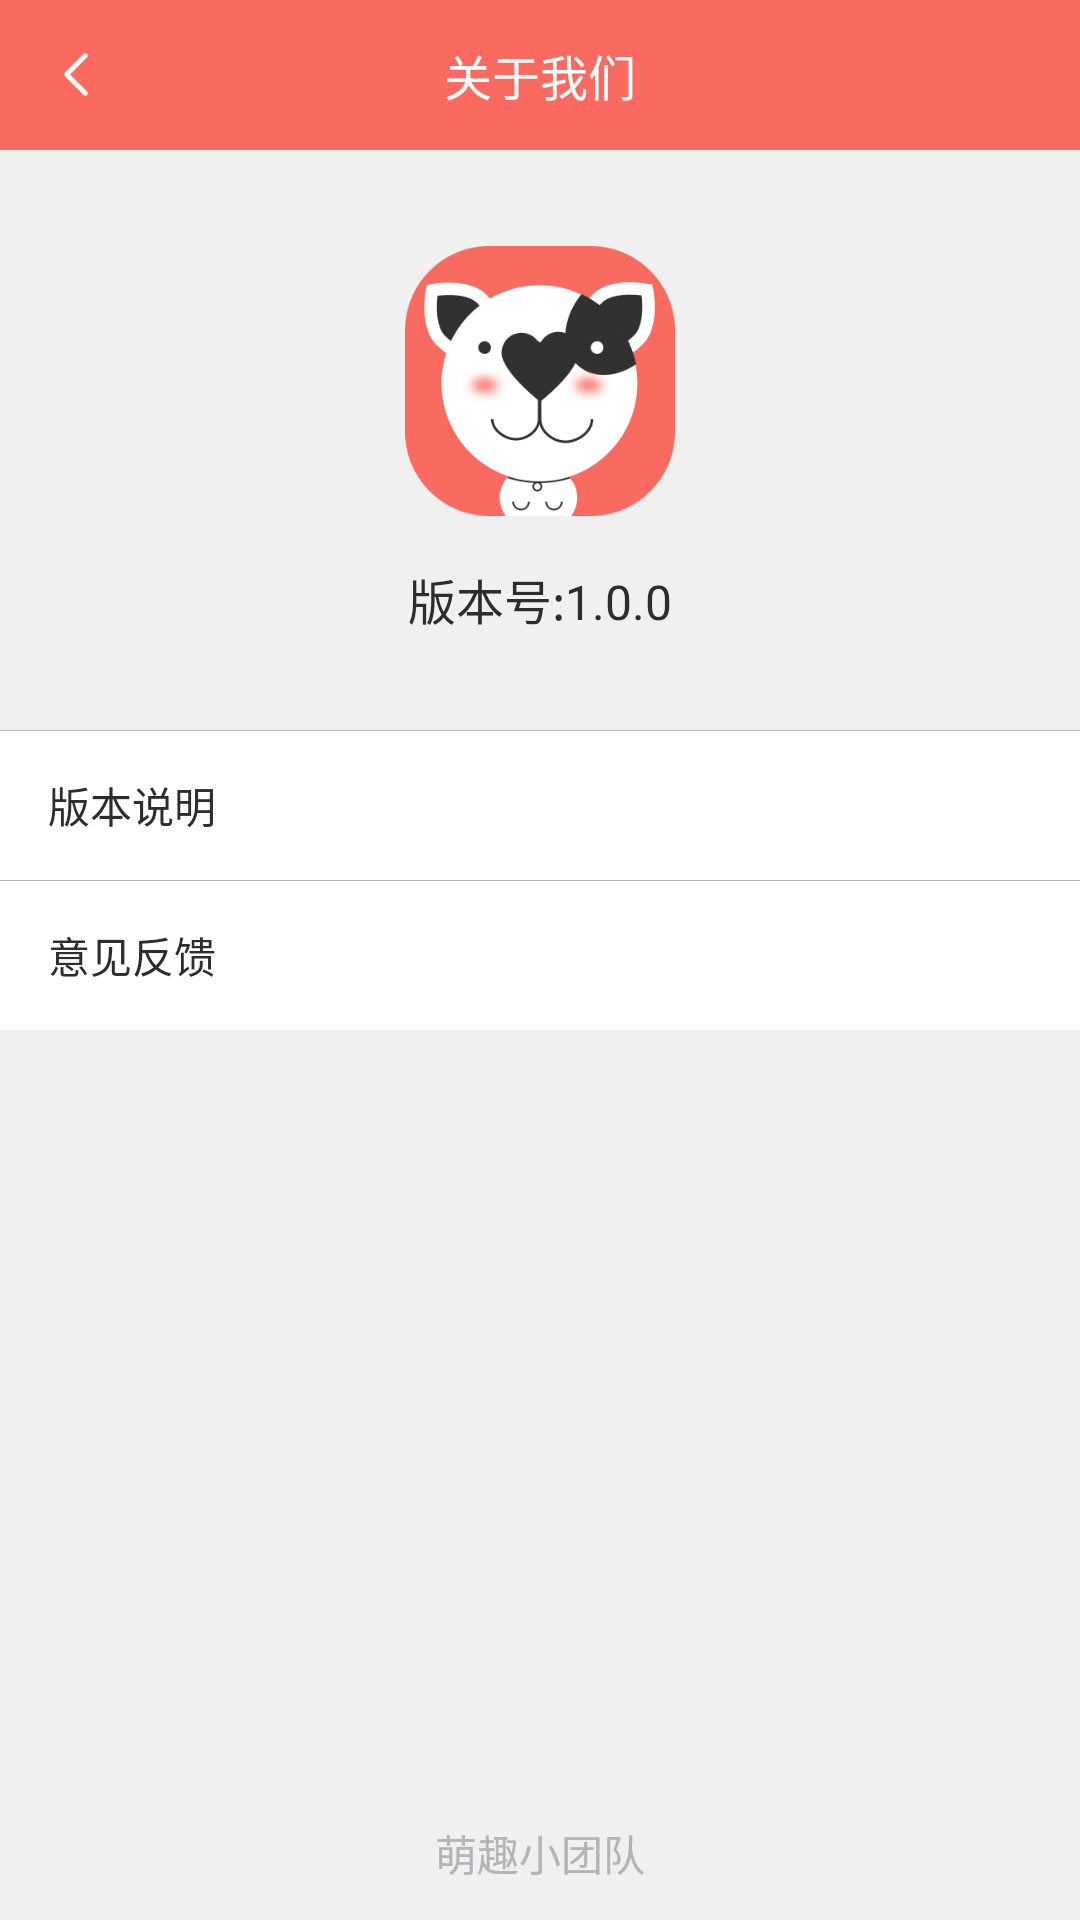

Named icons in this screenshot (1080 × 1920) and their bounding boxes, bbox=(x1, y1, x2, y2):
back: bbox=(64, 53, 88, 96)
